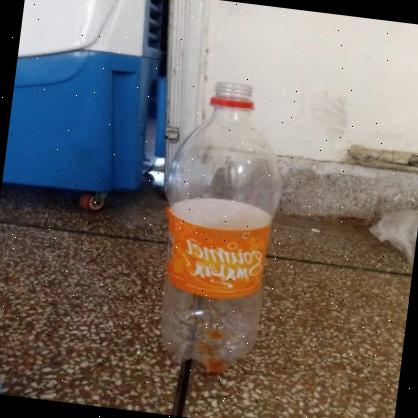bottle: (121, 65, 308, 384)
label: (153, 188, 288, 310)
